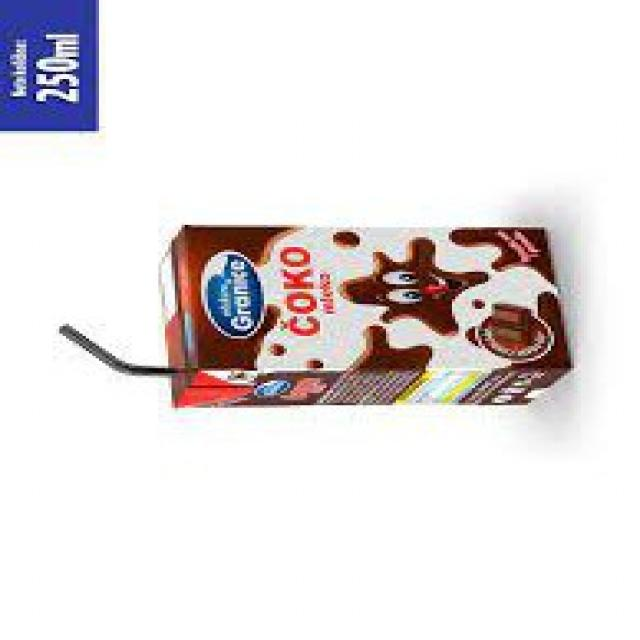non_white_jug: (147, 221, 584, 412)
